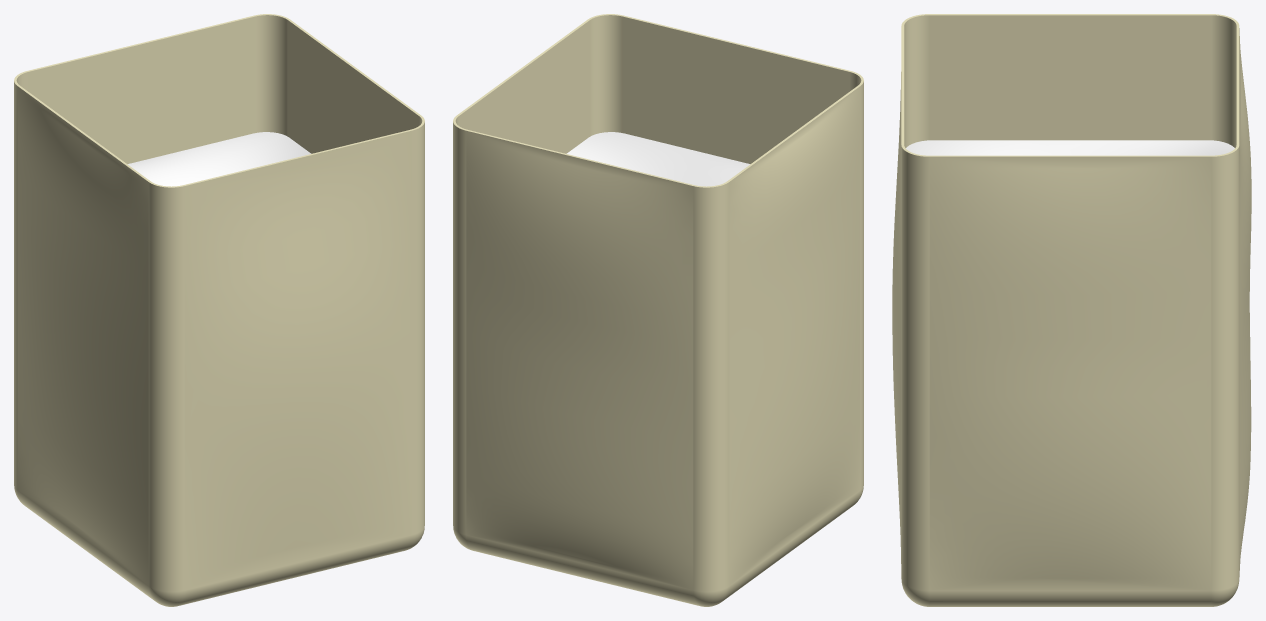
Rendered from bigbag.glb.
The picture shows the model from 3 angles, left to right: view 1: azimuth 30°, elevation 25°; view 2: azimuth 150°, elevation 25°; view 3: azimuth 270°, elevation 25°; orthographic projection. The views are drawn at different scales.
Parts seen in each view (by area): view 1: Bryła1, Bryła2; view 2: Bryła1, Bryła2; view 3: Bryła1, Bryła2.
Part boxes in pixels (x1,y1,x2,y2): Bryła1: (14, 14, 424, 606); Bryła2: (127, 132, 311, 186); Bryła1: (453, 14, 863, 606); Bryła2: (566, 132, 750, 186); Bryła1: (892, 14, 1251, 606); Bryła2: (906, 140, 1234, 155).
Bounding box in the file's own units: 1.28 × 1.8 × 1.28.
